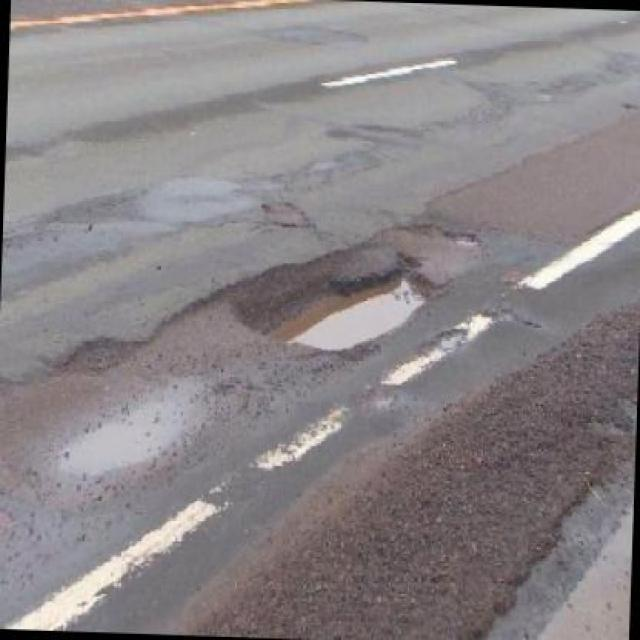pothole1: (230, 239, 444, 363), (58, 330, 139, 384), (444, 224, 484, 248)
